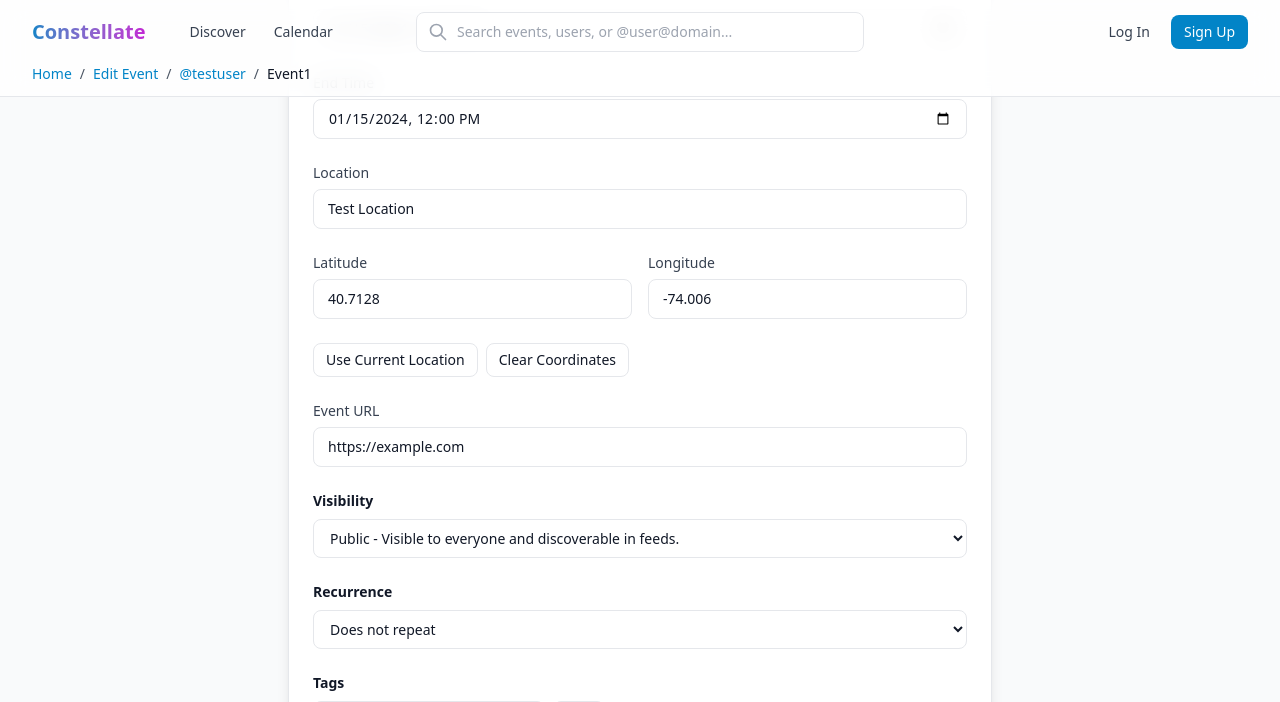
Scenario: EditEventPage › should clear coordinates
(page scrolled)
Expected: the link "Edit Event" is shown, x1=93 y1=64 x2=158 y2=84
Expected: the field showing "40.7128" is shown, x1=313 y1=279 x2=632 y2=319
Step 1. Click the button "Clear Coordinates" → (557, 360), box x1=486 y1=343 x2=629 y2=377
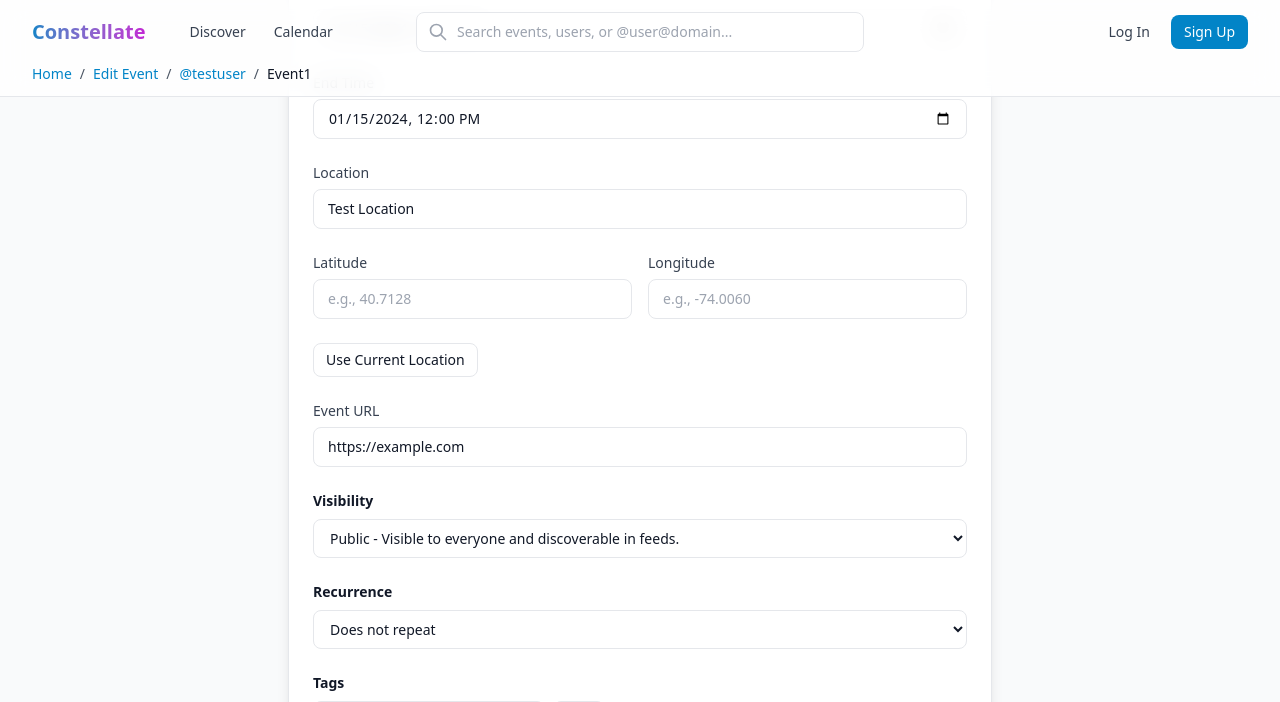
Expected: the field showing "40.7128" is empty, x1=313 y1=279 x2=632 y2=319
